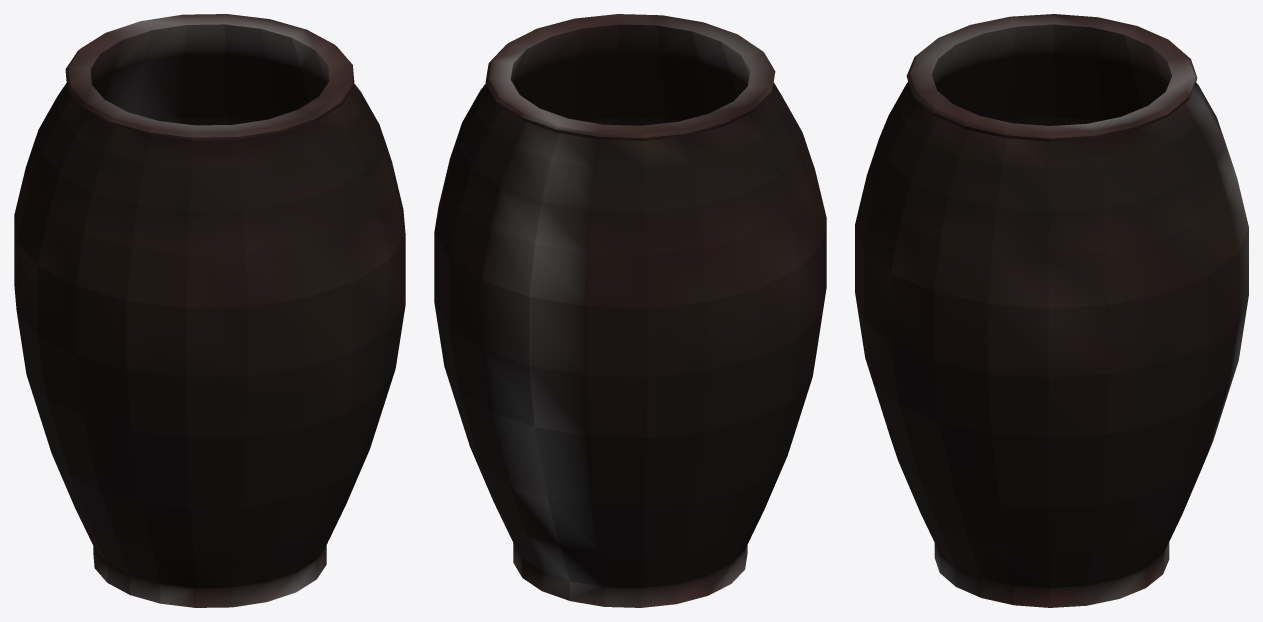
The model's file is jar_41af1b45.glb.
3 renders of one model, left to right at view 1: azimuth 30°, elevation 25°; view 2: azimuth 150°, elevation 25°; view 3: azimuth 270°, elevation 25°, orthographic.
Parts seen in each view (by area): view 1: SM_Jar01a_M_Jar01a_0; view 2: SM_Jar01a_M_Jar01a_0; view 3: SM_Jar01a_M_Jar01a_0.
Part boxes in pixels (x1,y1,x2,y2): SM_Jar01a_M_Jar01a_0: (14,14,405,607); SM_Jar01a_M_Jar01a_0: (434,14,826,607); SM_Jar01a_M_Jar01a_0: (855,14,1248,607).
Size of the model in its own units: 0.6765 by 0.9181 by 0.6765.
